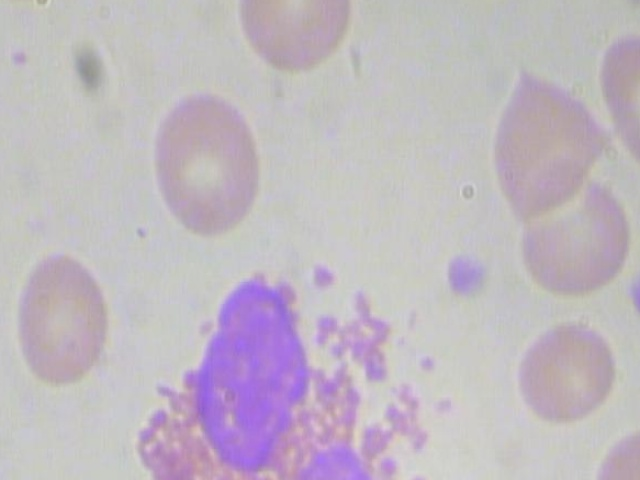Platelets: (441, 247, 498, 301), (619, 264, 640, 325), (615, 0, 640, 10)
RBC: (484, 58, 614, 210), (505, 150, 635, 302), (151, 90, 273, 248), (3, 240, 125, 398), (505, 313, 627, 427), (236, 0, 358, 86), (595, 26, 640, 183), (581, 419, 640, 480)
WBC: (113, 252, 451, 480)
